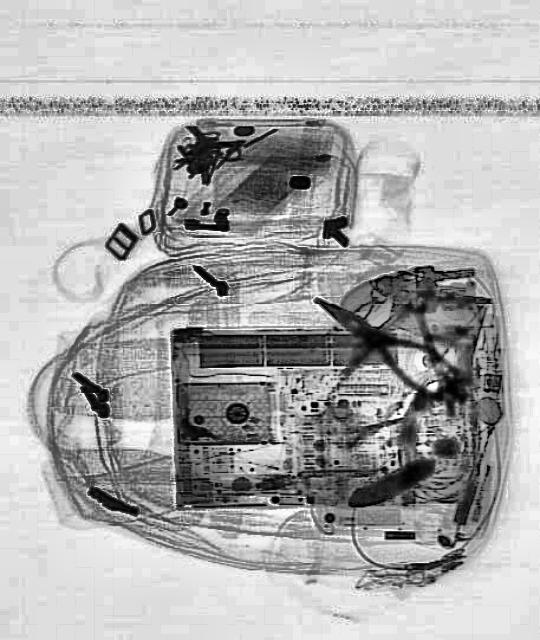Pliers: (304, 278, 456, 402)
